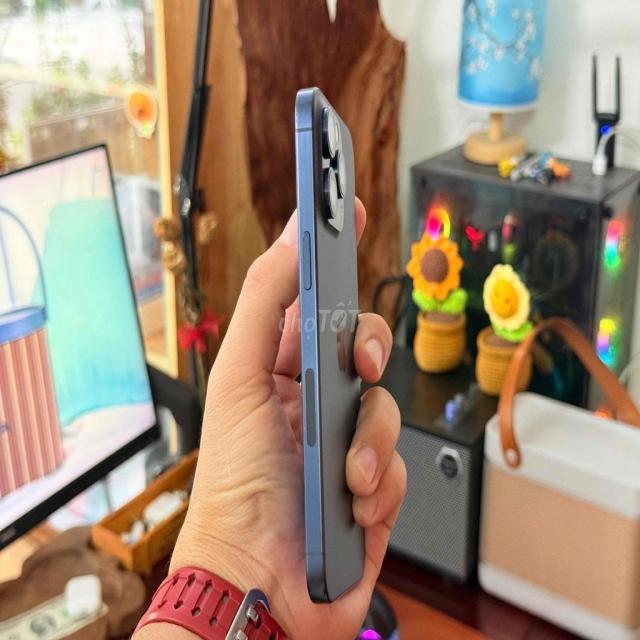scratch: (299, 389, 305, 399), (301, 423, 307, 432), (314, 440, 318, 446)
